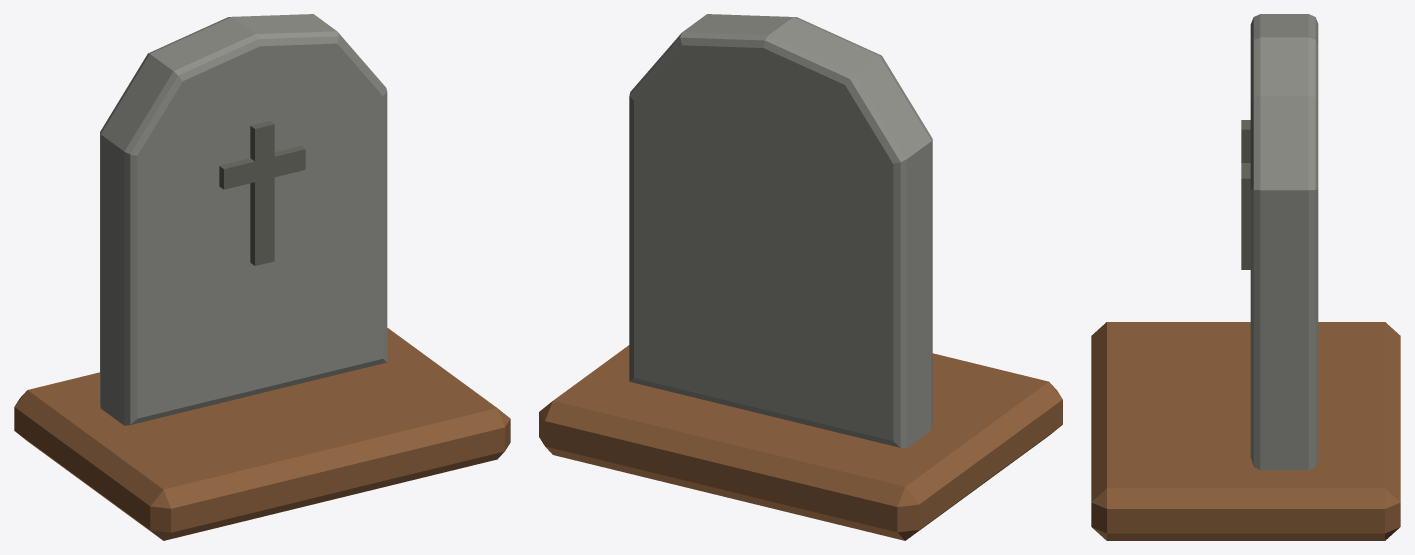
The model's file is Tombstone.fbx.
3 views of the same model, side by side, from view 1: azimuth 30°, elevation 25°; view 2: azimuth 150°, elevation 25°; view 3: azimuth 270°, elevation 25° (orthographic). The views are drawn at different scales.
Parts seen in each view (by area): view 1: Tombstone; view 2: Tombstone; view 3: Tombstone.
Boxes of the visible parts, box(x1,y1,x2,y2) form: Tombstone: box(14, 14, 510, 540); Tombstone: box(539, 14, 1062, 540); Tombstone: box(1091, 14, 1400, 540).
Size of the model in its own units: 2.2 by 2.4 by 1.6.
1 material, 1 textured.
